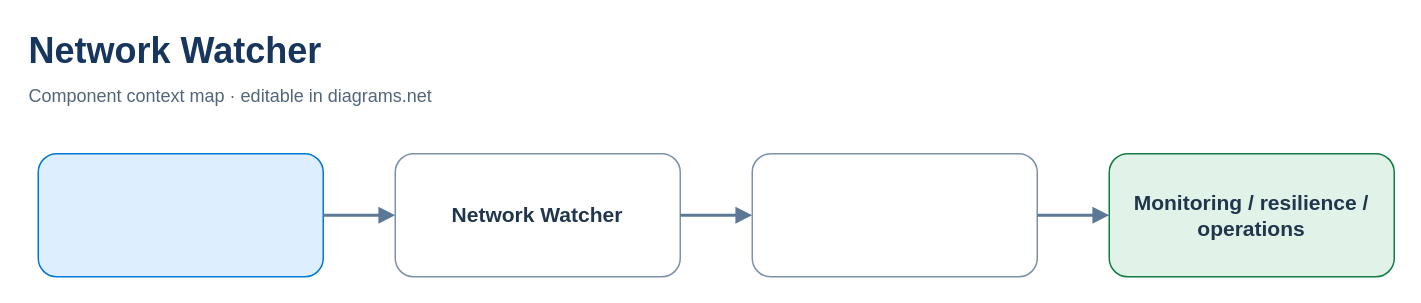
Image size: 1421x303. Some labels were removed from this diagram. Here are the shapes that lost their labels. From the top down, the box of each, then its label:
(37, 152, 323, 277): D · Traffic Management & Delivery
(751, 152, 1037, 277): Identity / network / governance controls
